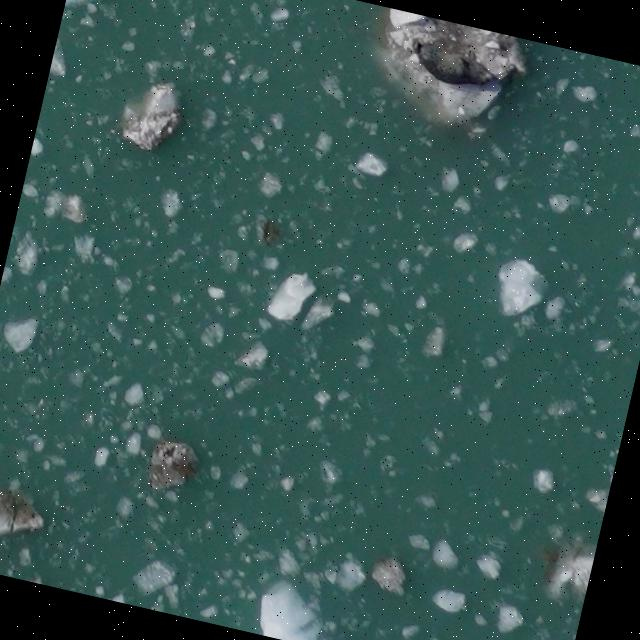seal: (400, 30, 509, 98)
